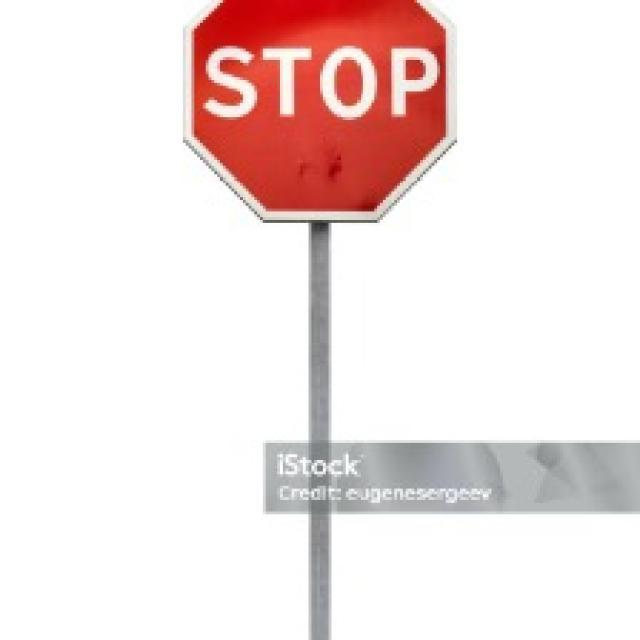stop: (181, 0, 458, 224)
